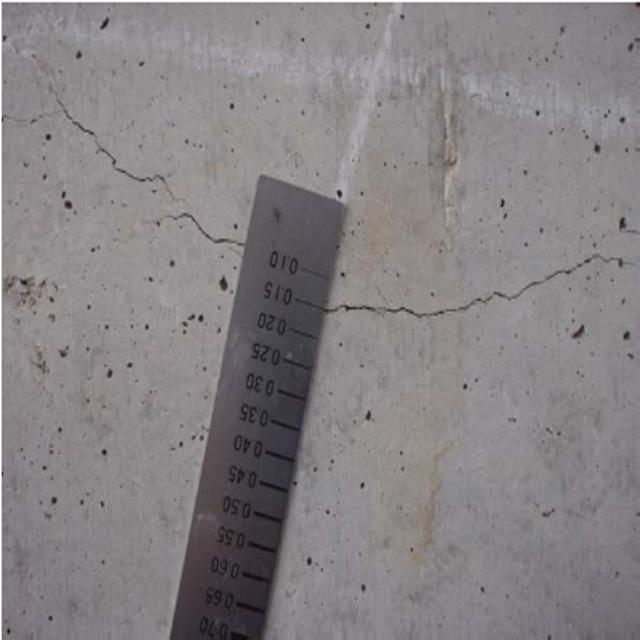crack: (17, 72, 244, 304), (332, 252, 634, 337)
